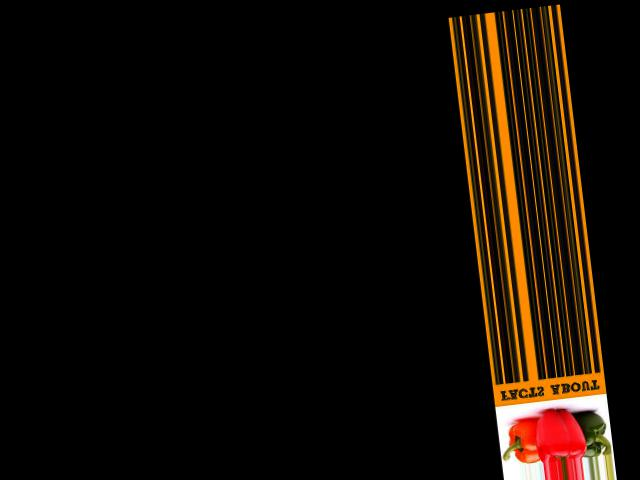bell_pepper: (578, 402, 611, 457)
